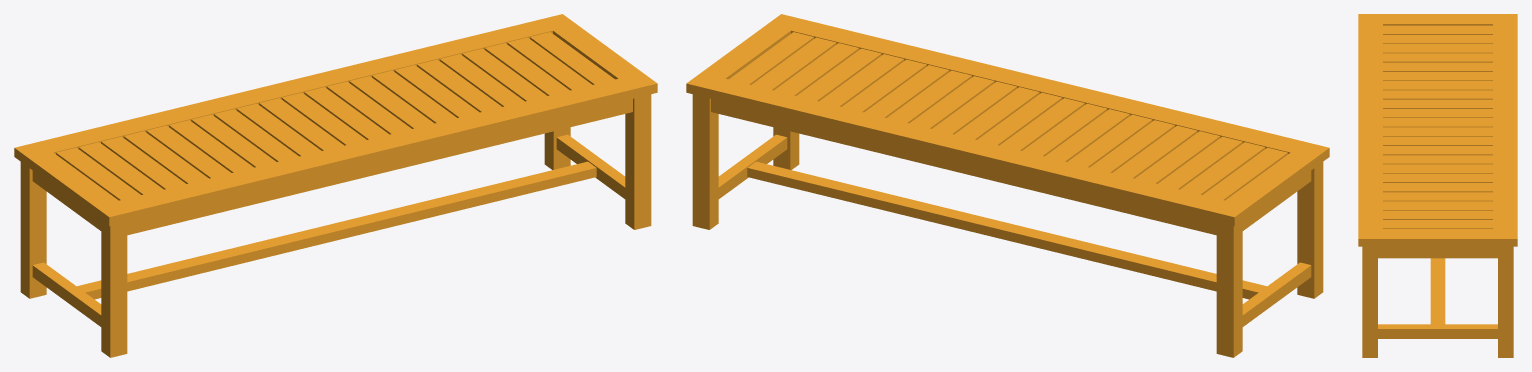
Rendered from SM_Bench_Garden_Long.fbx.
The picture shows the model from 3 angles, left to right: view 1: azimuth 30°, elevation 25°; view 2: azimuth 150°, elevation 25°; view 3: azimuth 270°, elevation 25°; orthographic projection. The views are drawn at different scales.
Parts seen in each view (by area): view 1: bench-garden-long; view 2: bench-garden-long; view 3: bench-garden-long.
Part boxes in pixels (x1=…): bench-garden-long: x1=14, y1=14, x2=657, y2=357; bench-garden-long: x1=686, y1=14, x2=1329, y2=357; bench-garden-long: x1=1358, y1=14, x2=1517, y2=357.
Bounding box in the file's own units: 2 × 0.5 × 0.6.
